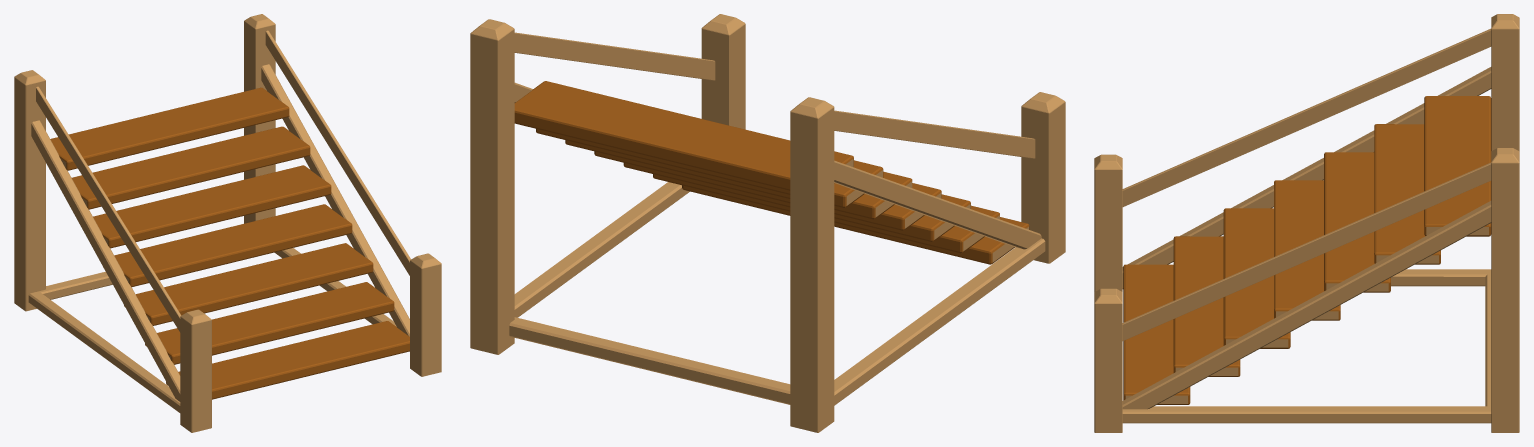
The model's file is Staircase.fbx.
3 renders of one model, left to right at view 1: azimuth 30°, elevation 25°; view 2: azimuth 150°, elevation 25°; view 3: azimuth 270°, elevation 25°, orthographic. The views are drawn at different scales.
Parts seen in each view (by area): view 1: WoodenStaircase; view 2: WoodenStaircase; view 3: WoodenStaircase.
Part boxes in pixels (<box>): WoodenStaircase: <box>14,14,441,432</box>; WoodenStaircase: <box>470,14,1065,432</box>; WoodenStaircase: <box>1094,14,1519,432</box>.
Size of the model in its own units: 368 by 325 by 453.
